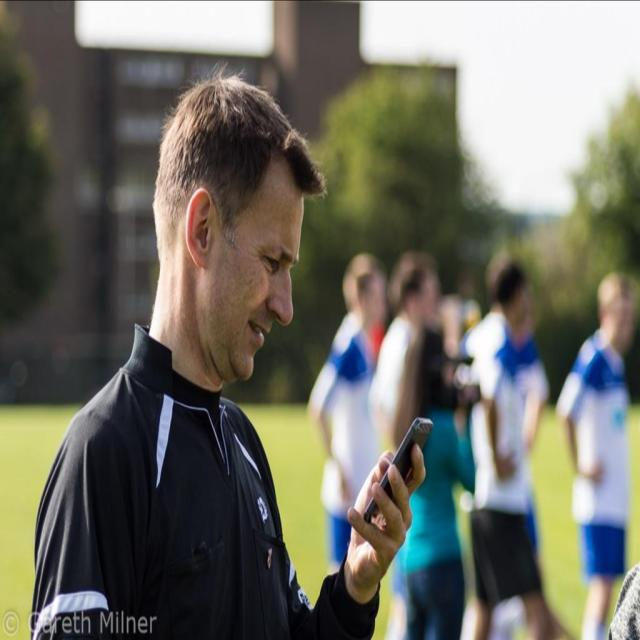phone: (363, 418, 433, 529)
